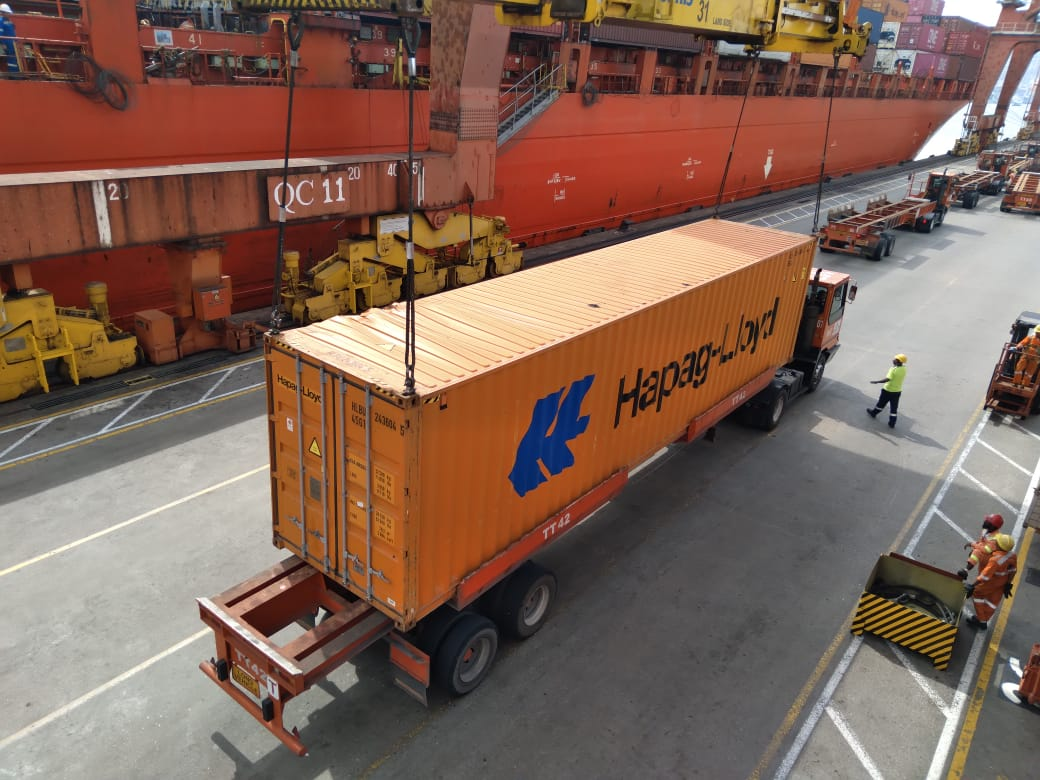severe: (582, 295, 611, 323)
